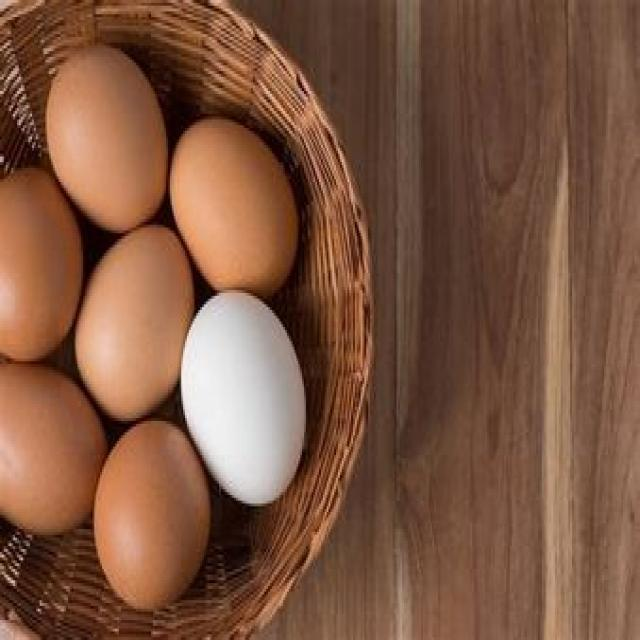Egg: (174, 281, 318, 522)
